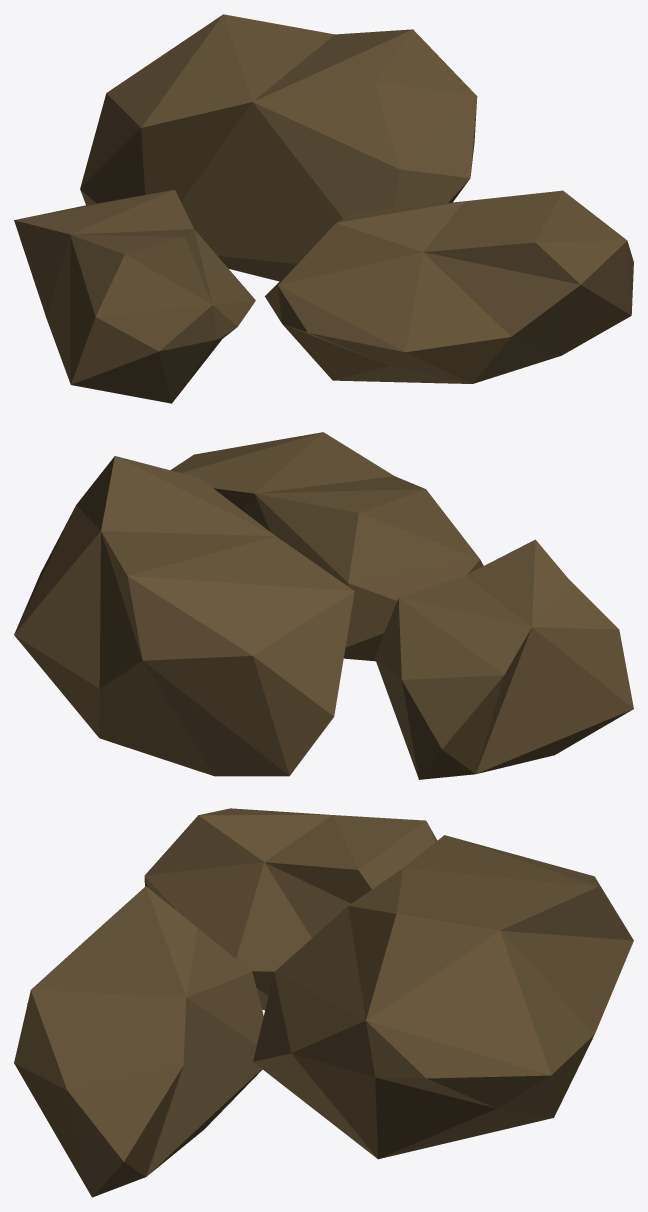
Rendered from ITMI_SULFUR.OBJ.
The picture shows the model from 3 angles, top to bottom: view 1: azimuth 30°, elevation 25°; view 2: azimuth 150°, elevation 25°; view 3: azimuth 270°, elevation 25°; orthographic projection. The views are drawn at different scales.
Visible parts, largest first — view 1: ITMI_SULFUR; view 2: ITMI_SULFUR; view 3: ITMI_SULFUR.
Boxes of the visible parts, bbox=[...] form: ITMI_SULFUR: bbox=[14, 14, 633, 403]; ITMI_SULFUR: bbox=[14, 432, 633, 779]; ITMI_SULFUR: bbox=[14, 808, 633, 1197].
Bounding box in the file's own units: 0.1262 × 0.0535 × 0.1147.
